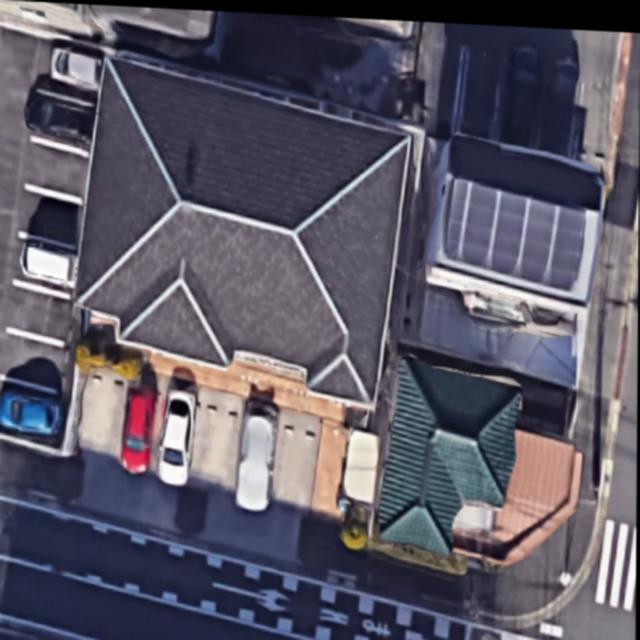Batiment: (77, 57, 411, 404), (427, 129, 603, 296), (378, 356, 522, 550)
